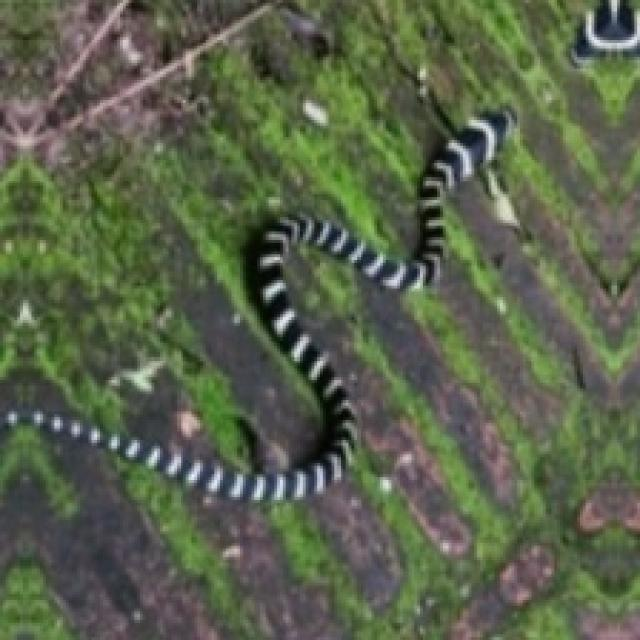king cobra: (31, 109, 514, 500)
